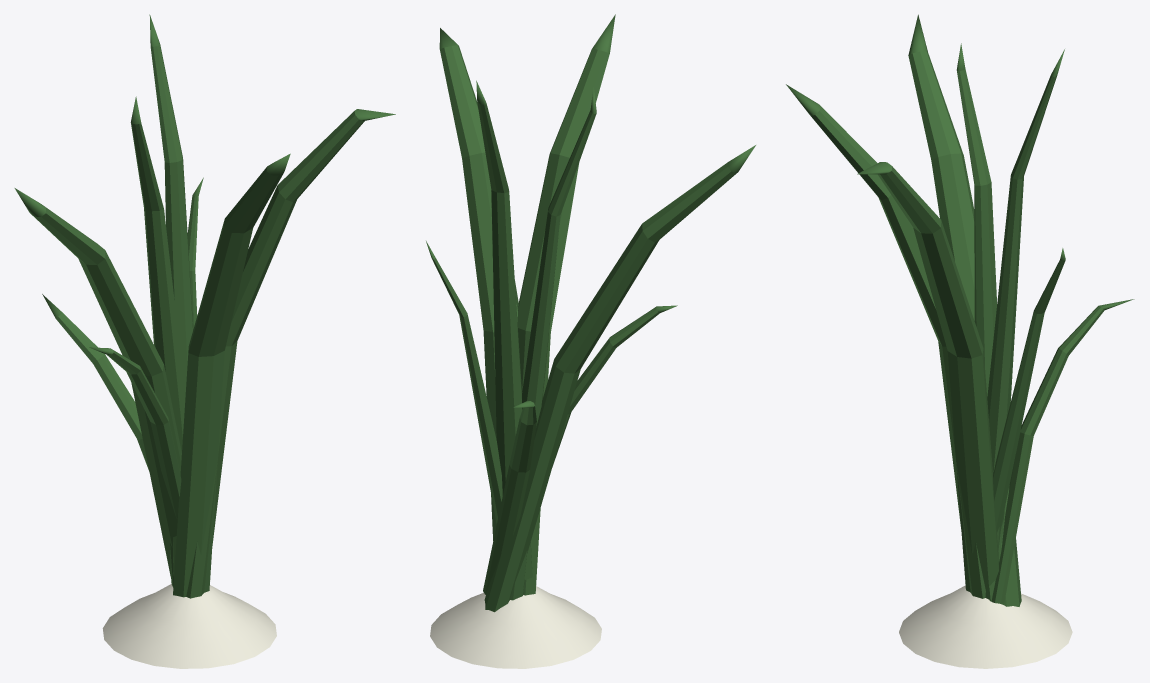
The model's file is OnionSlice1.fbx.
3 views of the same model, side by side, from view 1: azimuth 30°, elevation 25°; view 2: azimuth 150°, elevation 25°; view 3: azimuth 270°, elevation 25° (orthographic).
Visible parts, largest first — view 1: LeafA1, OnionSlice1, LeafA2, LeafA3, LeafB3, LeafB2, LeafA4, LeafA5, LeafB4; view 2: LeafA2, OnionSlice1, LeafB2, LeafA1, LeafA3, LeafB3, LeafA5, LeafB4, LeafA4; view 3: LeafA3, OnionSlice1, LeafA2, LeafB2, LeafA1, LeafB3, LeafA5, LeafB4.
Part boxes in pixels (<box>): LeafA1: <box>173,153,290,597</box>; OnionSlice1: <box>102,584,276,668</box>; LeafA2: <box>14,188,181,576</box>; LeafA3: <box>186,109,395,598</box>; LeafB3: <box>130,96,185,587</box>; LeafB2: <box>149,14,193,575</box>; LeafA4: <box>89,347,181,519</box>; LeafA5: <box>42,294,149,470</box>; LeafB4: <box>187,177,203,328</box>; LeafA2: <box>484,145,755,612</box>; OnionSlice1: <box>430,586,601,668</box>; LeafB2: <box>476,80,532,579</box>; LeafA1: <box>517,14,615,595</box>; LeafA3: <box>439,28,518,540</box>; LeafB3: <box>510,86,596,600</box>; LeafA5: <box>483,401,536,594</box>; LeafB4: <box>426,241,502,523</box>; LeafA4: <box>552,305,677,466</box>; LeafA3: <box>857,162,998,592</box>; OnionSlice1: <box>899,585,1072,668</box>; LeafA2: <box>908,14,1021,606</box>; LeafB2: <box>987,49,1064,550</box>; LeafA1: <box>786,84,985,598</box>; LeafB3: <box>956,43,1005,549</box>; LeafA5: <box>991,299,1134,603</box>; LeafB4: <box>993,248,1065,532</box>.
Bounding box in the file's own units: 2.72 × 4.36 × 2.37.
